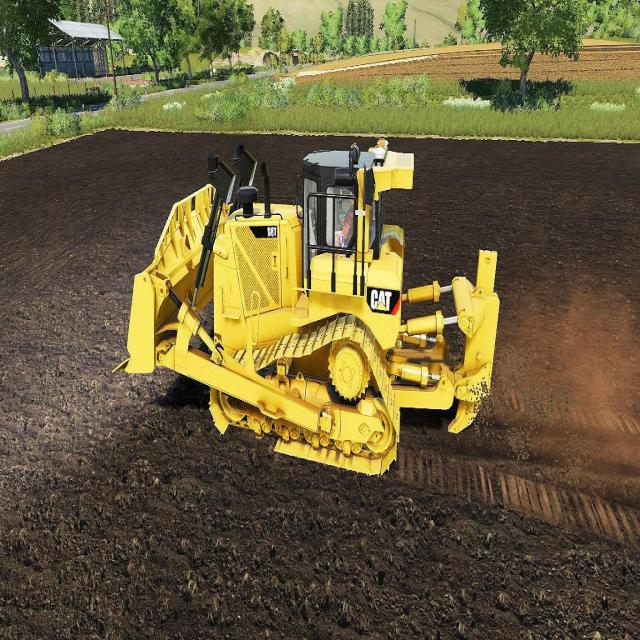buldozerpayloadergrader: (107, 133, 506, 499)
